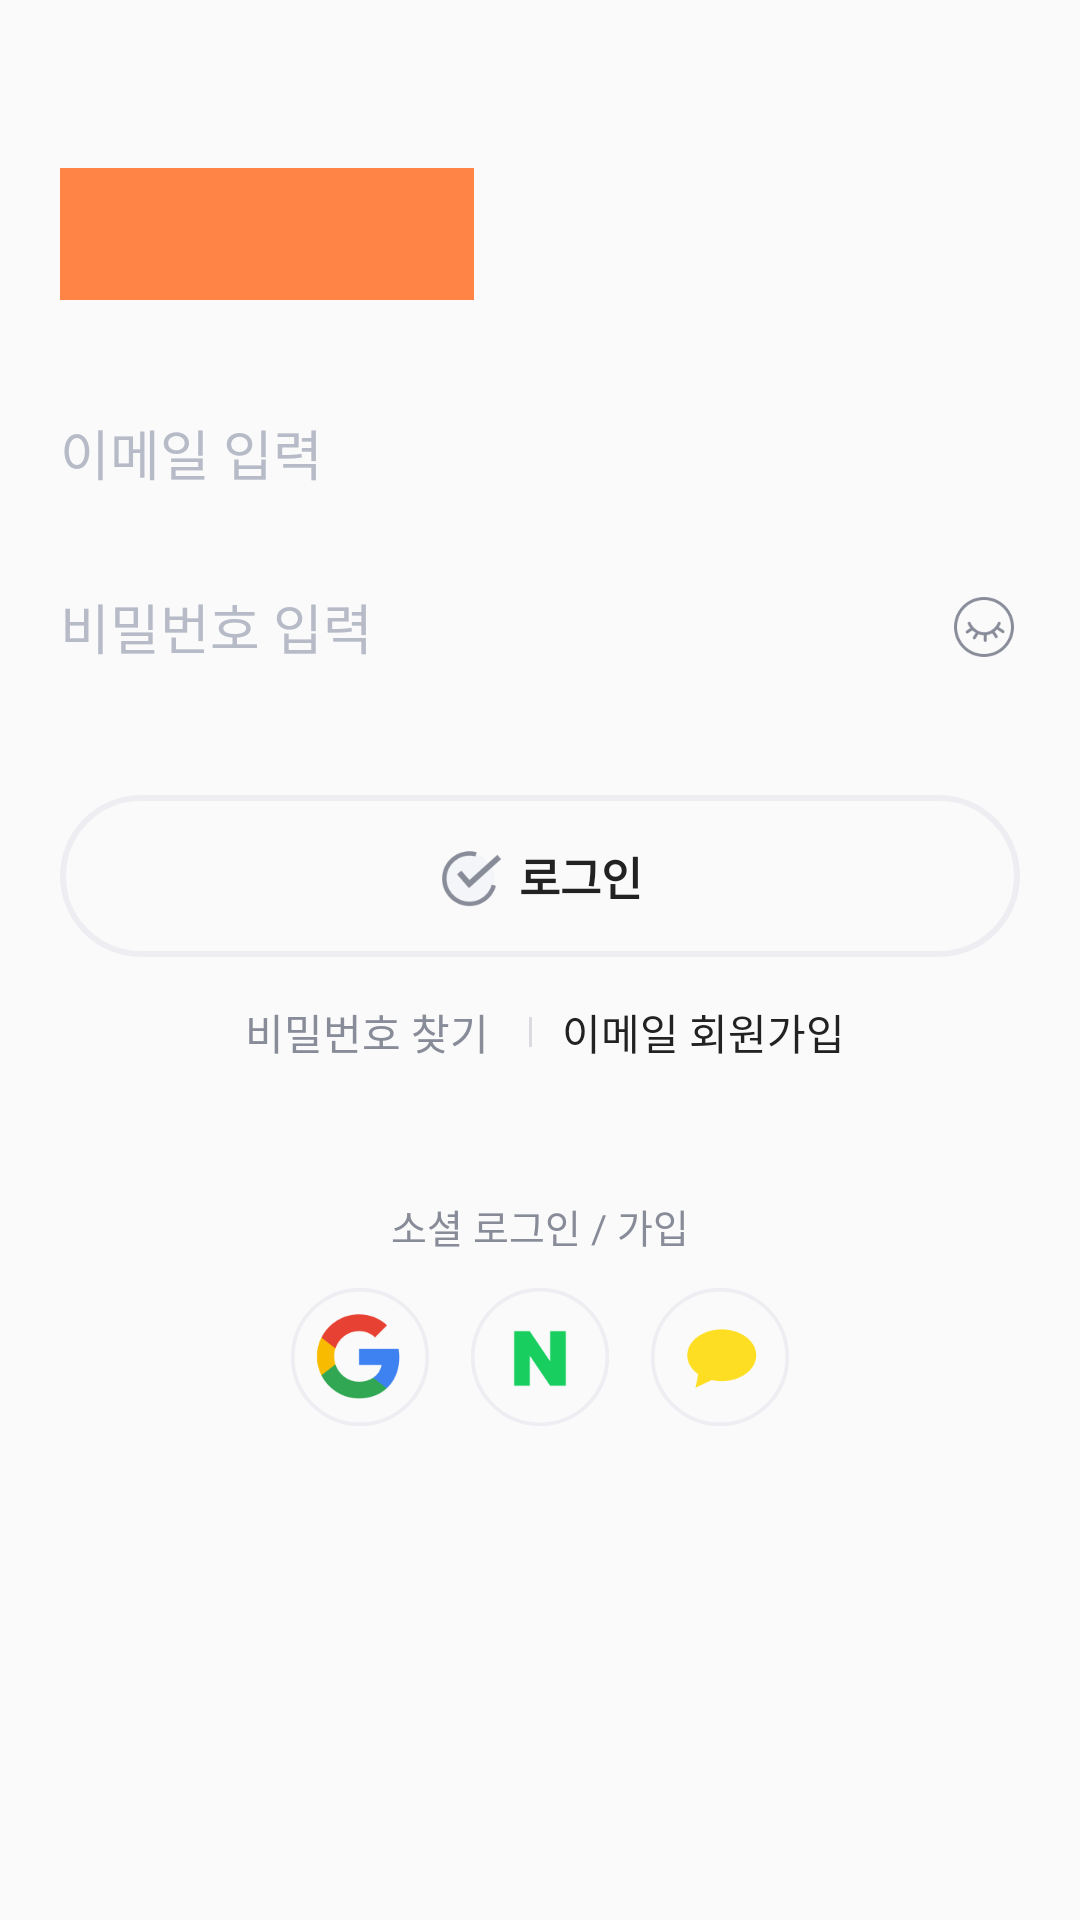

Locate icon controls on the screen. Image size 1080 × 1920, boxes as (x1, y1, x2, y2).
check off: (442, 851, 501, 906)
hide on: (954, 597, 1014, 657)
